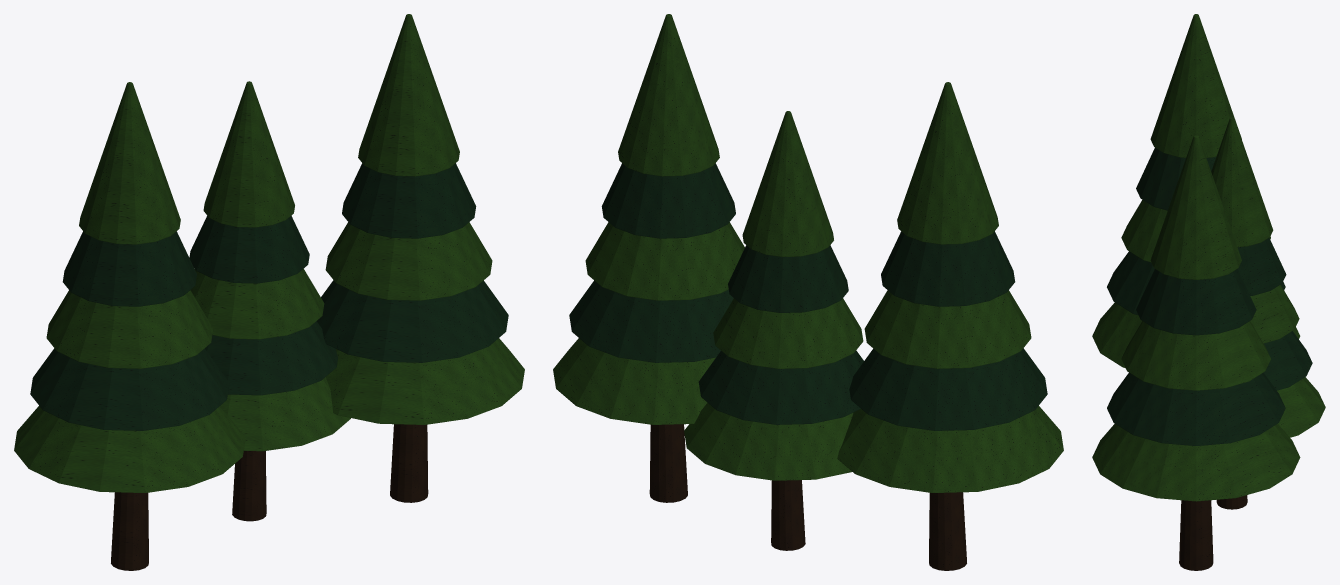
Rendered from PROP-196A5C36326A_lod0.glb.
3 renders of one model, left to right at view 1: azimuth 30°, elevation 25°; view 2: azimuth 150°, elevation 25°; view 3: azimuth 270°, elevation 25°, orthographic. The views are drawn at different scales.
Visible parts, largest first — view 1: layered_conifer_crown.018, layered_conifer_crown.019, trunk.010; view 2: layered_conifer_crown.018, layered_conifer_crown.019, trunk.010; view 3: layered_conifer_crown.018, layered_conifer_crown.019, trunk.010.
Part boxes in pixels (x1=…): layered_conifer_crown.018: x1=14, y1=14, x2=524, y2=492; layered_conifer_crown.019: x1=30, y1=163, x2=508, y2=430; trunk.010: x1=111, y1=424, x2=428, y2=570; layered_conifer_crown.018: x1=553, y1=14, x2=1063, y2=492; layered_conifer_crown.019: x1=569, y1=163, x2=1047, y2=430; trunk.010: x1=649, y1=424, x2=966, y2=570; layered_conifer_crown.018: x1=1092, y1=14, x2=1325, y2=501; layered_conifer_crown.019: x1=1107, y1=148, x2=1312, y2=445; trunk.010: x1=1179, y1=495, x2=1247, y2=570.
Size of the model in its own units: 6.9 by 6.58 by 3.26.
Materials: 3 (3 with a texture image).
